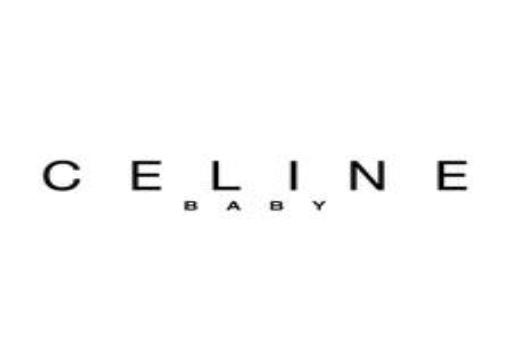CELINE: (20, 139, 486, 199)
